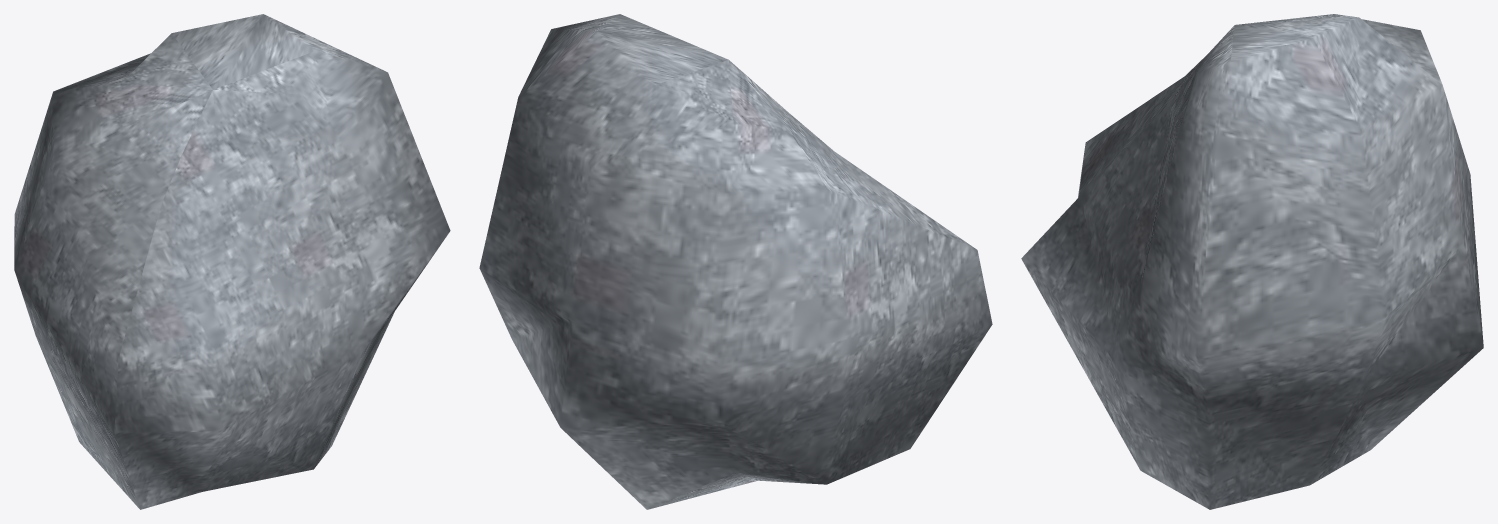
File: zinc model (1) (1).fbx
3 renders of one model, left to right at view 1: azimuth 30°, elevation 25°; view 2: azimuth 150°, elevation 25°; view 3: azimuth 270°, elevation 25°, orthographic. The views are drawn at different scales.
Parts seen in each view (by area): view 1: zinc1; view 2: zinc1; view 3: zinc1.
Boxes of the visible parts, bbox=[...] form: zinc1: bbox=[14, 14, 450, 509]; zinc1: bbox=[479, 14, 992, 509]; zinc1: bbox=[1021, 14, 1483, 509].
Size of the model in its own units: 3.15 by 3.18 by 2.85.
Materials: 1 (1 with a texture image).
